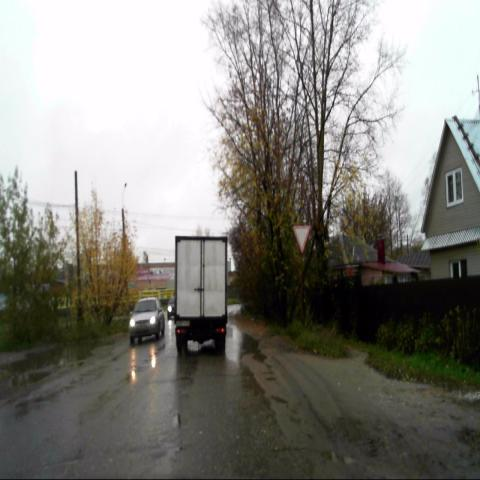2_4: (292, 224, 309, 251)
